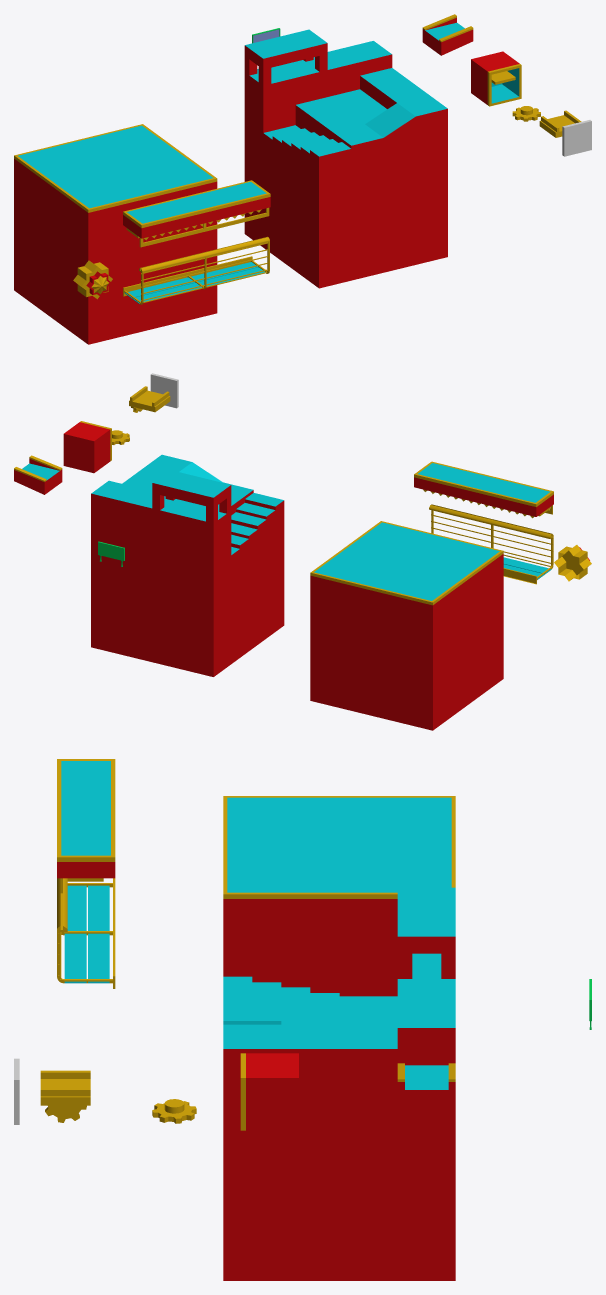
File: SbS_Level_Baker.fbx
3 views of the same model, one above another, from view 1: azimuth 30°, elevation 25°; view 2: azimuth 150°, elevation 25°; view 3: azimuth 270°, elevation 25° (orthographic). The views are drawn at different scales.
Parts seen in each view (by area): view 1: SbS_Level_01, SbS_Level_00, SbS_Level_03, SbS_Level_02, SBS_Level_Pusher, obj1, obj2; view 2: SbS_Level_01, SbS_Level_00, SbS_Level_03, SbS_Level_02, SBS_Level_Pusher, obj1, obj2; view 3: SbS_Level_01, SbS_Level_00, SbS_Level_02, SbS_Level_03, SBS_Level_Pusher, obj1.
Boxes of the visible parts, x1,y1,x2,y2 form: SbS_Level_01: (244,29,447,288); SbS_Level_00: (14,124,217,344); SbS_Level_03: (14,162,217,344); SbS_Level_02: (73,180,270,304); SBS_Level_Pusher: (471,51,581,137); obj1: (422,14,473,55); obj2: (562,120,591,156); SbS_Level_01: (91,454,284,676); SbS_Level_00: (310,521,503,730); SbS_Level_03: (310,555,503,729); SbS_Level_02: (414,461,591,584); SBS_Level_Pusher: (63,386,170,473); obj1: (14,455,62,494); obj2: (150,373,178,408); SbS_Level_01: (223,887,455,1280); SbS_Level_00: (223,796,455,996); SbS_Level_02: (57,759,115,988); SbS_Level_03: (223,899,397,996); SBS_Level_Pusher: (40,1053,298,1130); obj1: (397,1063,455,1100).
Bounding box in the file's own units: 3807 × 1400 × 2486.
